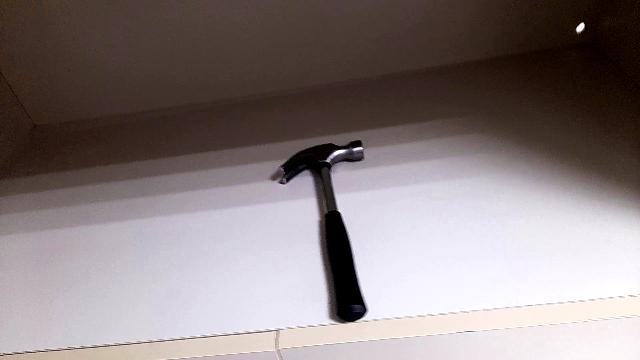hammer: (268, 130, 380, 325)
